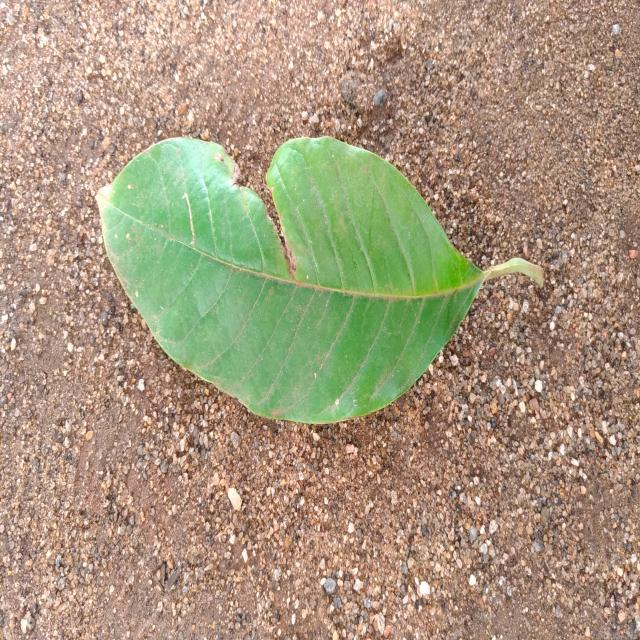coffee: (96, 136, 544, 422)
